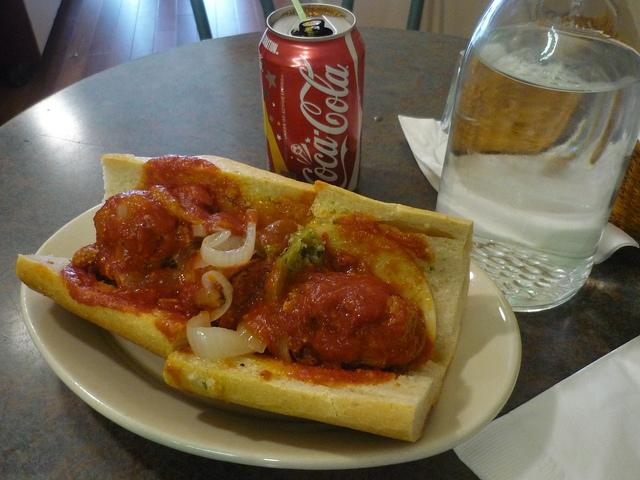broccoli: (280, 228, 326, 272)
onion: (186, 310, 257, 360), (200, 208, 256, 268), (192, 236, 245, 270), (201, 270, 234, 324), (236, 322, 266, 354), (194, 288, 224, 304), (210, 230, 230, 248), (192, 224, 206, 238)
